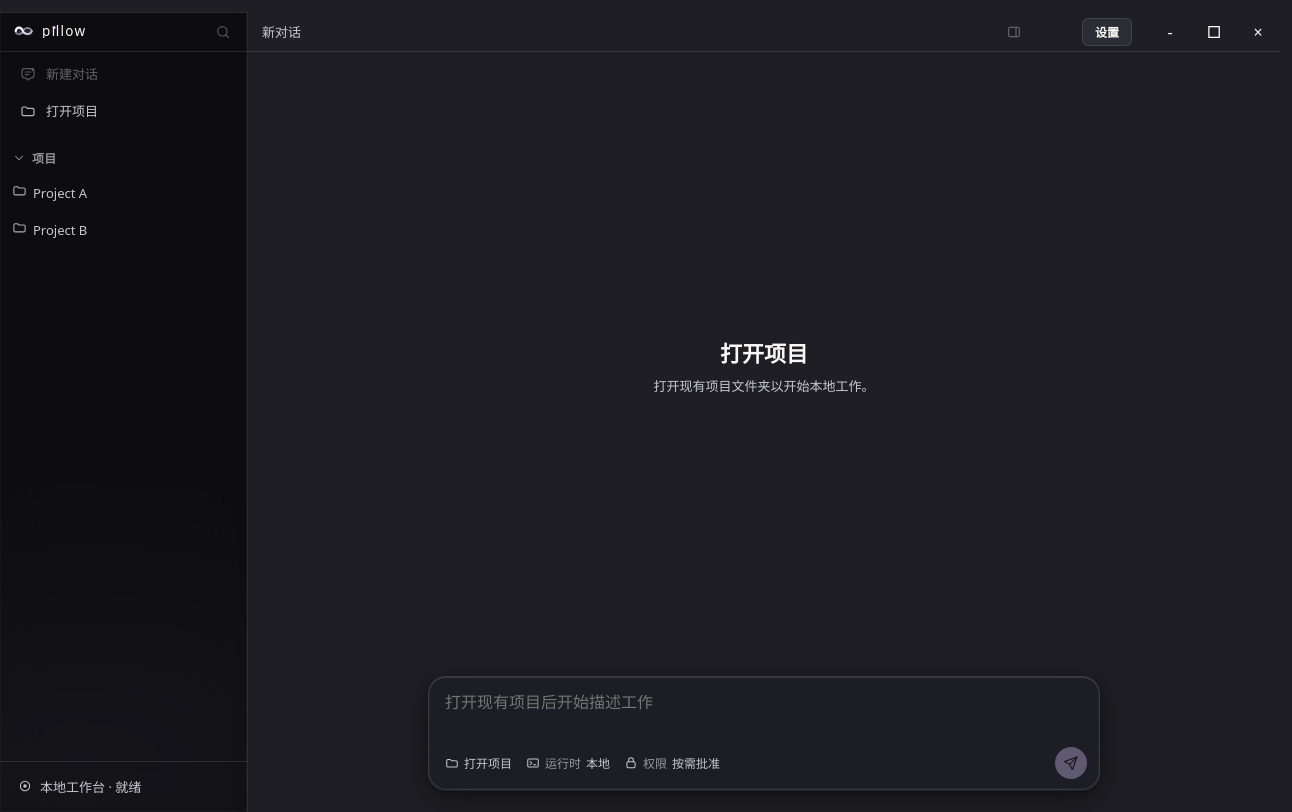
Scenario: conversation list project isolation (not weakened by freshness) › drops a late list result for the previous project after switch
The width and height of the screenshot is (1292, 812).
Click the button "Project A": (124, 192) [4, 176, 243, 209]
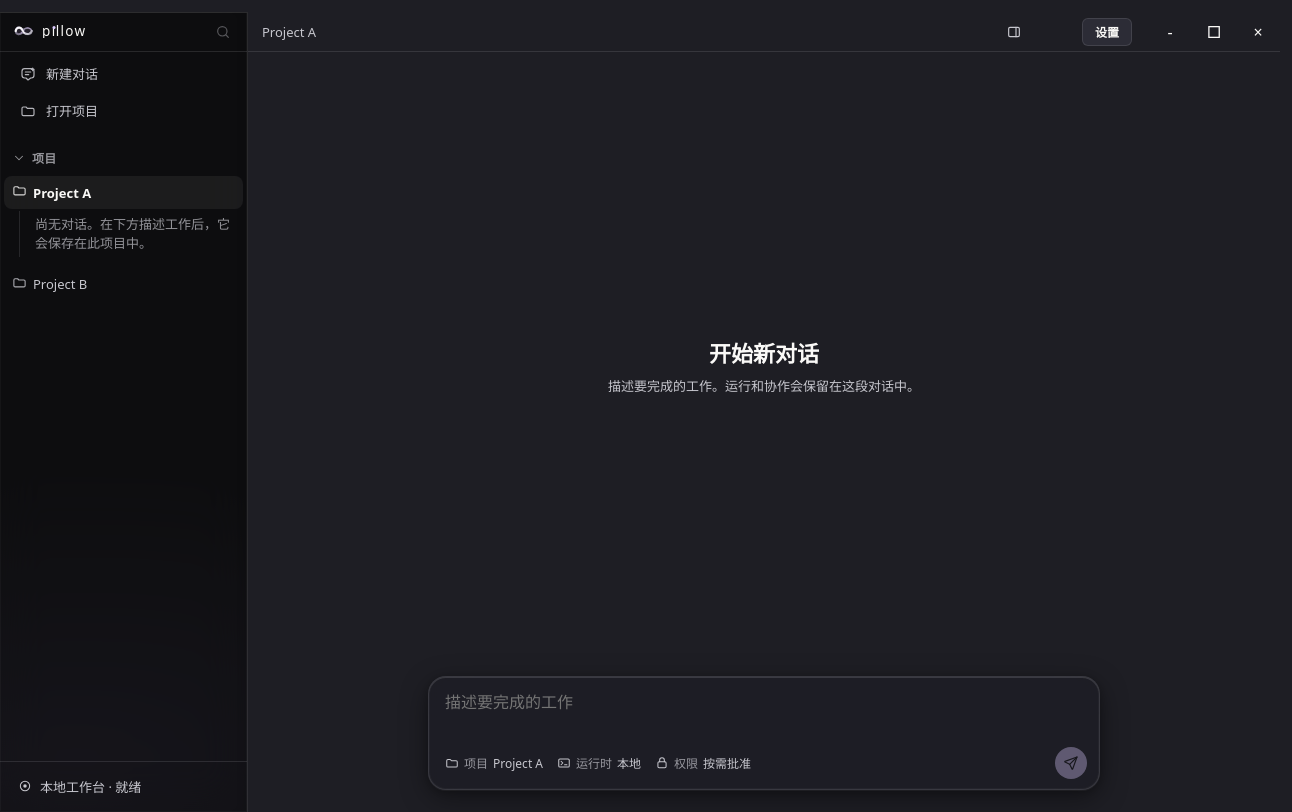
Switch before A's list resolves — active flag must drop the late result.
Click the button "Project B": (124, 284) [4, 268, 243, 301]
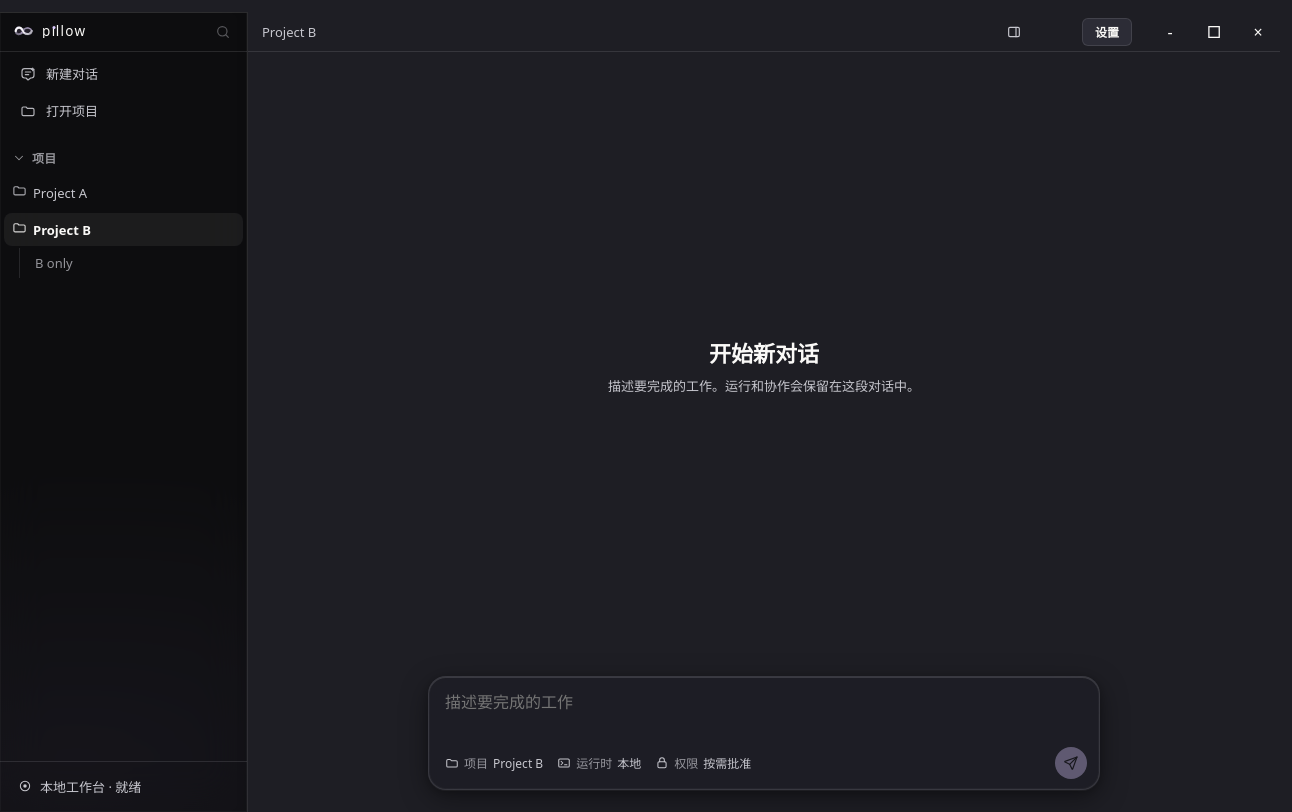
Now the heading with test id "active-project-name" reads "Project B", box [262, 22, 316, 40]
Now the text "B only" is shown, box [35, 254, 73, 272]
